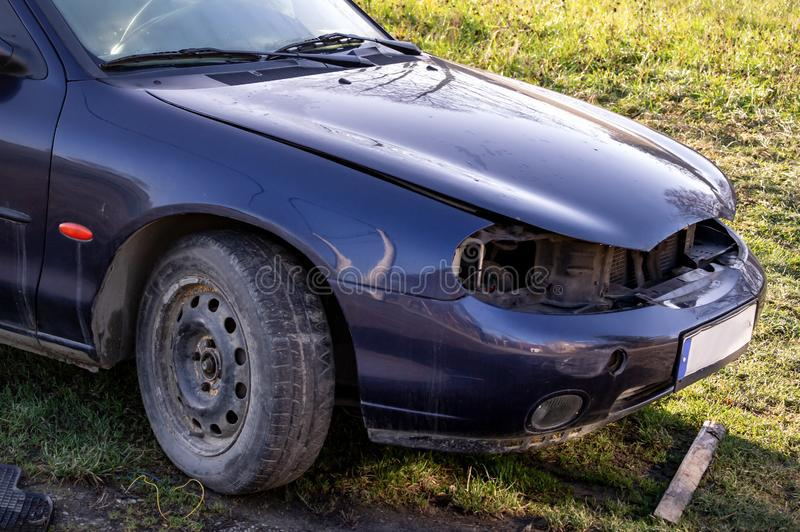fender-dent: (49, 124, 410, 357)
